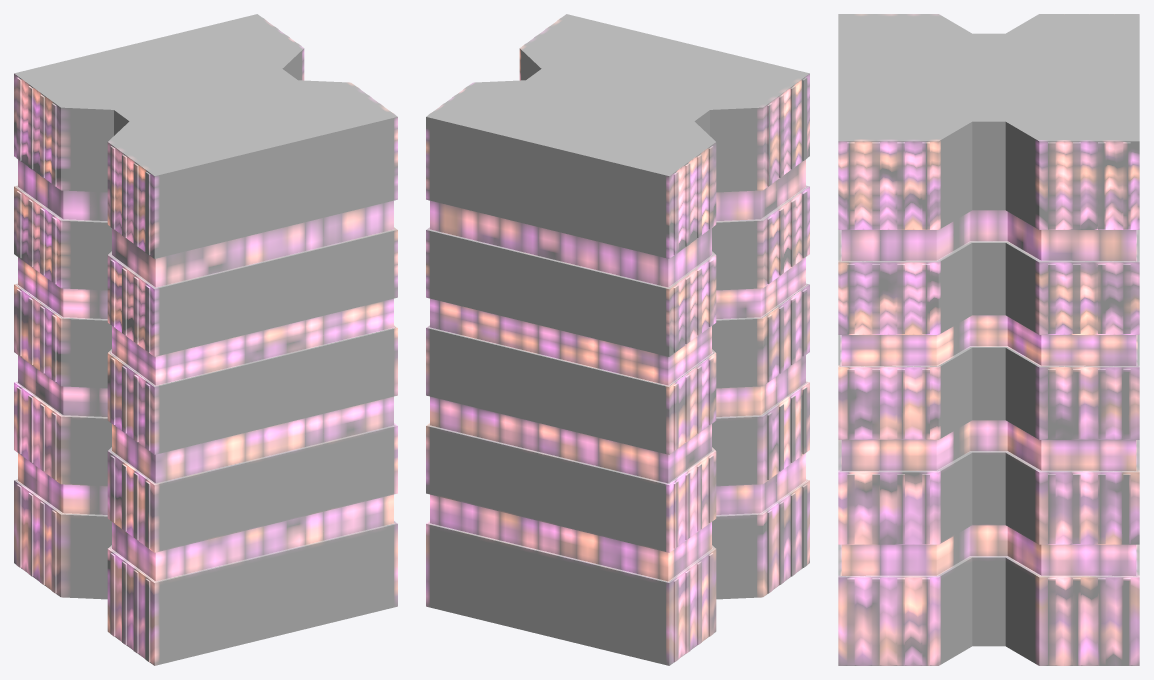
Rendered from BuildingH.fbx.
The picture shows the model from 3 angles, left to right: view 1: azimuth 30°, elevation 25°; view 2: azimuth 150°, elevation 25°; view 3: azimuth 270°, elevation 25°; orthographic projection. The views are drawn at different scales.
Visible parts, largest first — view 1: BuildingH; view 2: BuildingH; view 3: BuildingH.
Part boxes in pixels (x1,y1,x2,y2): BuildingH: [14, 14, 397, 665]; BuildingH: [426, 14, 809, 665]; BuildingH: [838, 14, 1139, 665].
Bounding box in the file's own units: 263 × 500 × 260.
